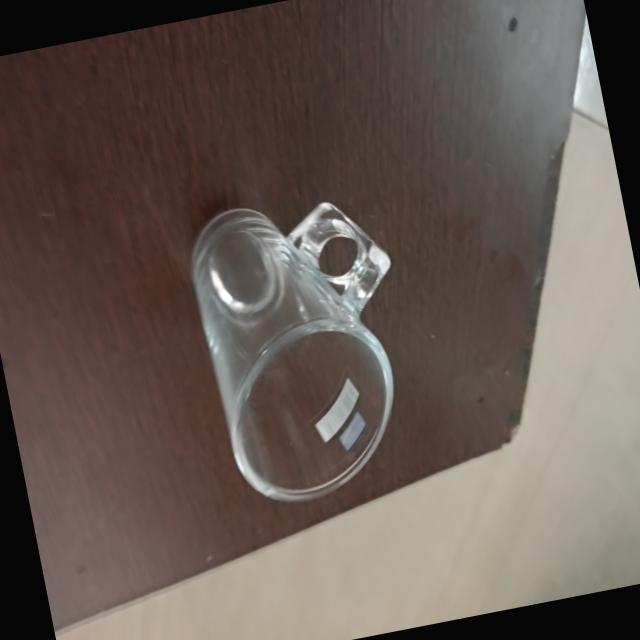glass-VX4N: (176, 178, 430, 516)
